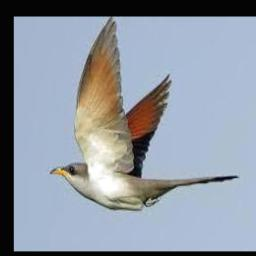Cuckoo: (51, 17, 238, 209)
